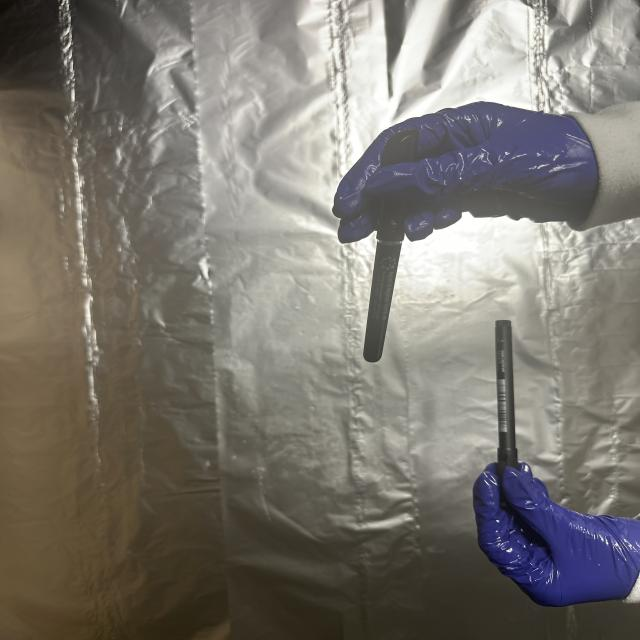gloves_contaminated: (333, 102, 600, 243), (473, 463, 640, 606)
